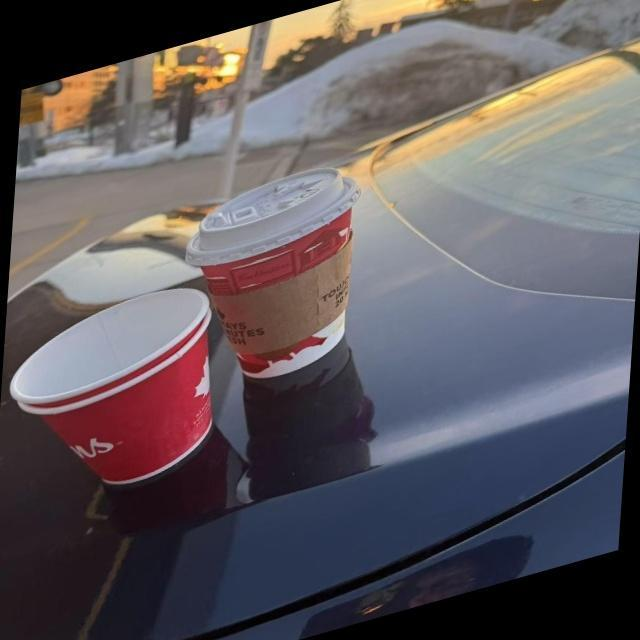timmies: (2, 267, 230, 524), (172, 144, 380, 412)
